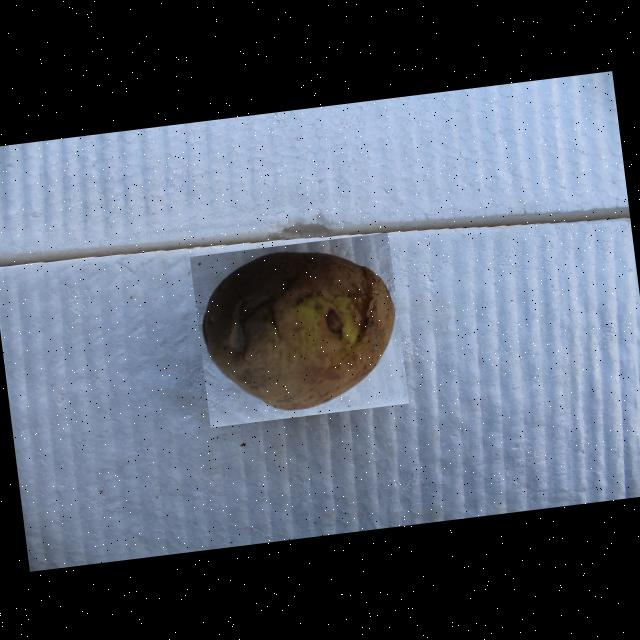Diseased-fungal potato: (188, 232, 408, 426)
